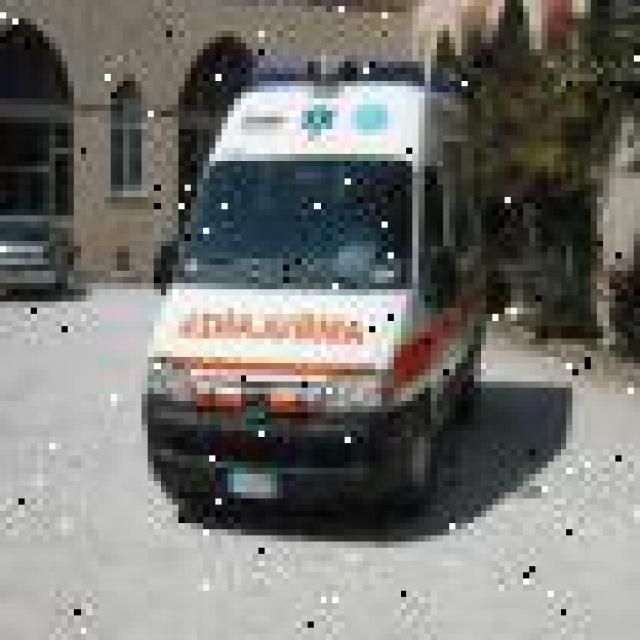emergency-vehicle: (153, 74, 492, 492)
